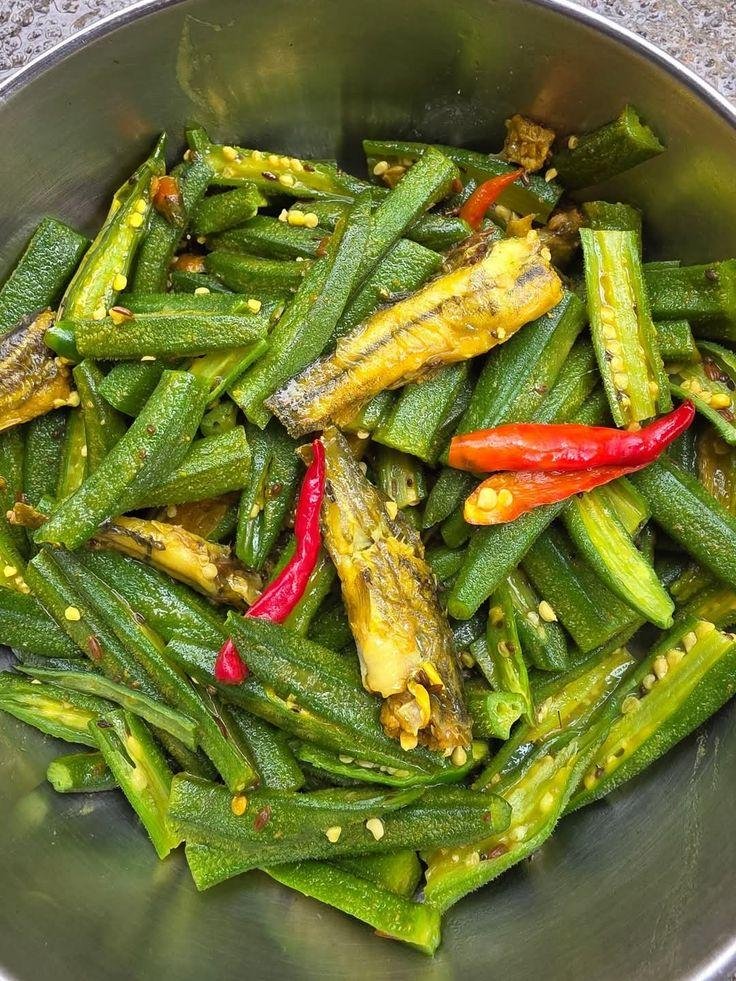bhindi: (4, 136, 736, 823)
